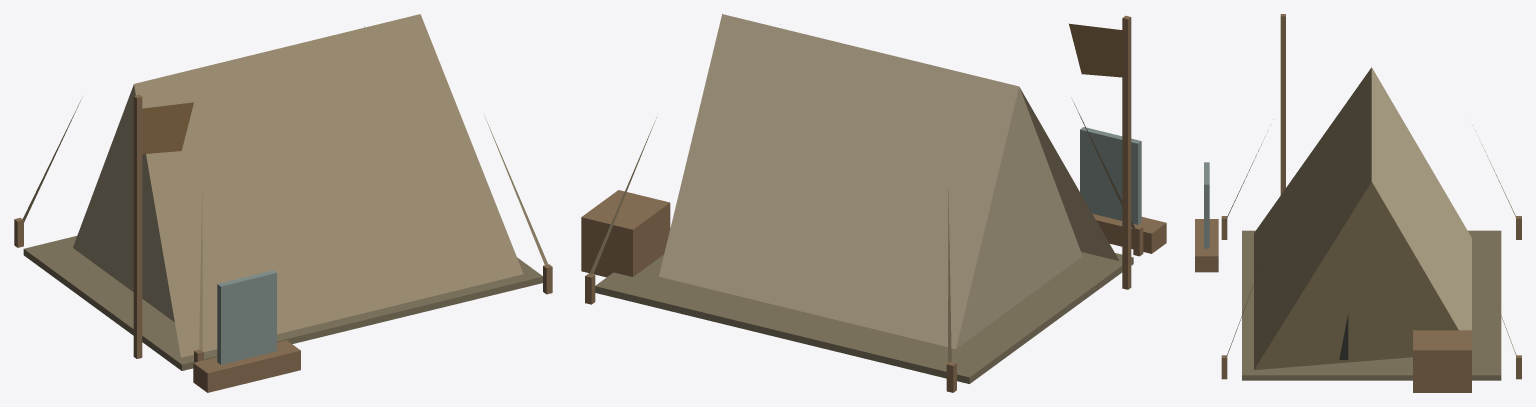
Rendered from camp.glb.
3 views of the same model, side by side, from view 1: azimuth 30°, elevation 25°; view 2: azimuth 150°, elevation 25°; view 3: azimuth 270°, elevation 25° (orthographic). The views are drawn at different scales.
Visible parts, largest first — view 1: Building; view 2: Building; view 3: Building.
Part boxes in pixels (box(x1,y1,x2,y2)): Building: box(14, 14, 552, 392); Building: box(581, 14, 1166, 392); Building: box(1195, 14, 1521, 392).
Size of the model in its own units: 66.45 by 40 by 55.5.
